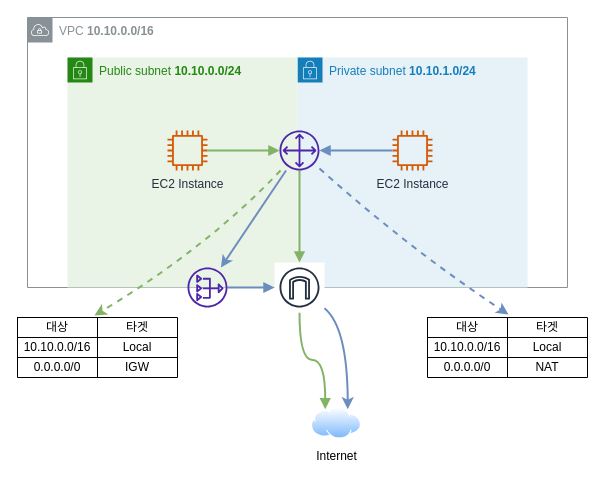
Some shapes in this 605 by 480 pixel diagram are drawn without their labels. Each missing label, with the centre of its shape:
Internet gateway: [299,287]
NAT GW: [207,287]
가상 라우터: [299,150]
